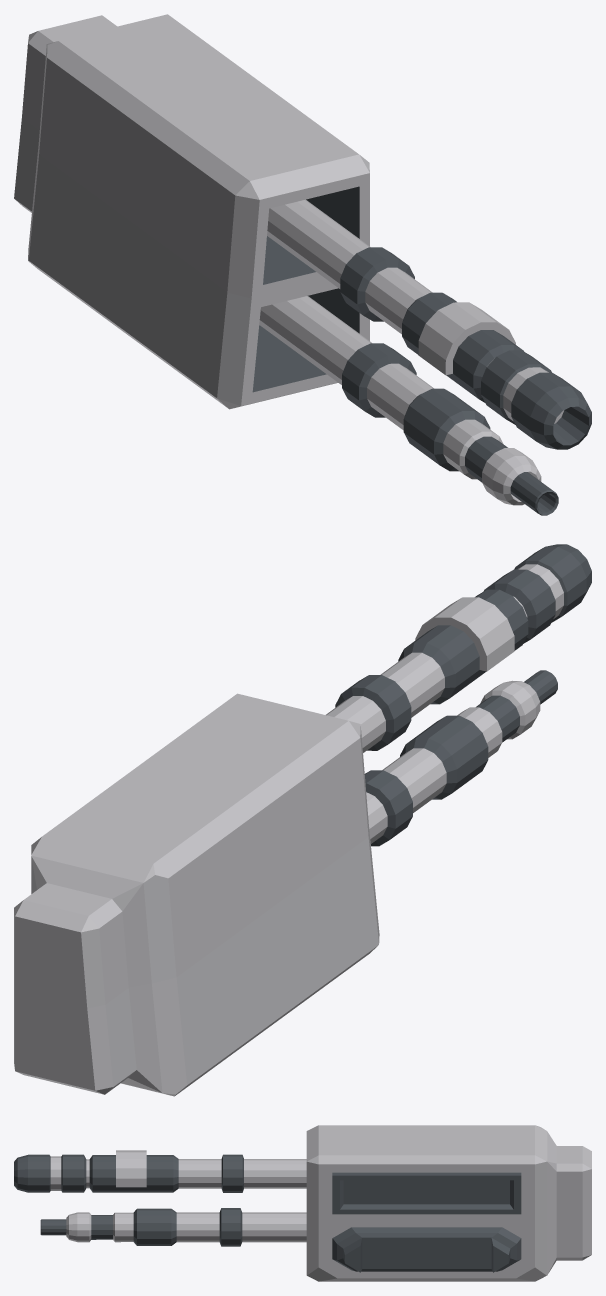
File: Fighter_05_Artillery_Left.fbx
3 views of the same model, one above another, from view 1: azimuth 30°, elevation 25°; view 2: azimuth 150°, elevation 25°; view 3: azimuth 270°, elevation 25° (orthographic). The views are drawn at different scales.
Visible parts, largest first — view 1: Fighter_05_Artillery_Left; view 2: Fighter_05_Artillery_Left; view 3: Fighter_05_Artillery_Left.
Part boxes in pixels (box(x1,y1,x2,y2)): Fighter_05_Artillery_Left: box(14, 14, 591, 515); Fighter_05_Artillery_Left: box(14, 544, 591, 1096); Fighter_05_Artillery_Left: box(14, 1125, 591, 1281).
Bounding box in the file's own units: 155 × 175 × 726.
2 materials, 2 textured.
